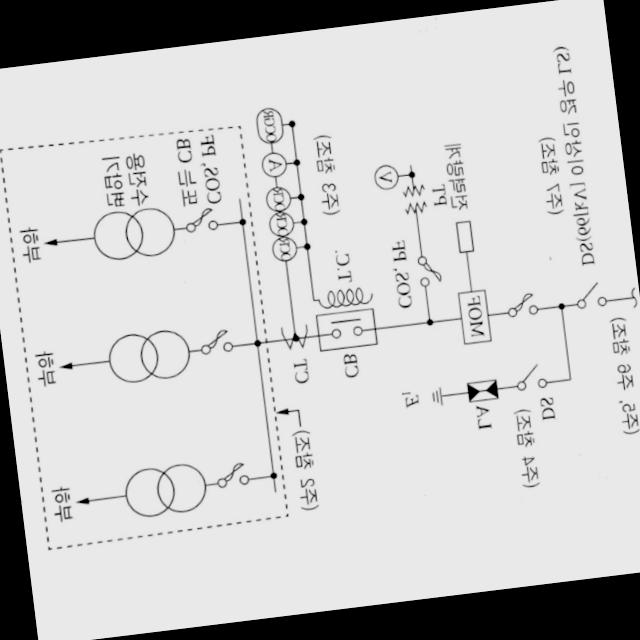A: (260, 152, 287, 178)
CB: (315, 307, 376, 351)
CT: (280, 323, 308, 350)
GND: (427, 384, 443, 407)
LA: (465, 380, 497, 402)
MOF: (457, 288, 490, 344)
PF: (199, 328, 233, 354), (215, 462, 248, 488), (184, 207, 216, 233), (417, 253, 442, 286), (504, 292, 536, 316)
PT: (401, 184, 425, 214)
V: (372, 162, 398, 192)
ds: (574, 282, 606, 308), (514, 364, 546, 390)
